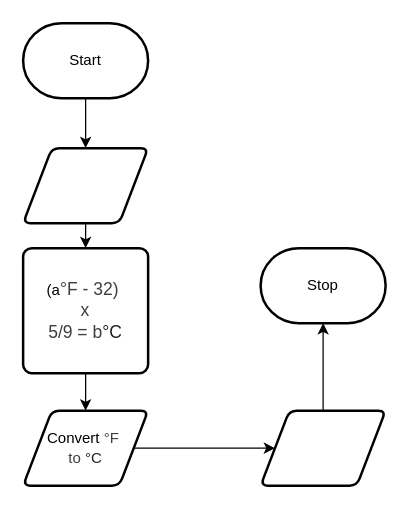
The diagram is 408 pixels wide and 508 high, and some of its shapes have lost their labels. The centre of each missing label's shape, as x and y in pixels:
"Enter °F" belongs at [85,185].
"Show °C" belongs at [322,447].
